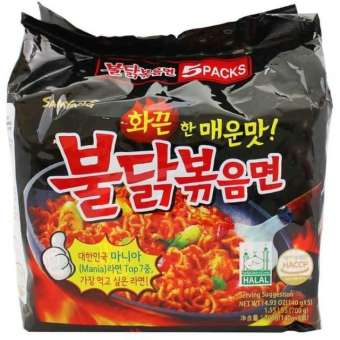Snack: (2, 2, 340, 340)
